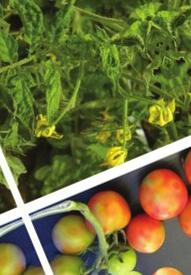Tomato leaf mosaic virus: (28, 58, 73, 119), (2, 69, 44, 133), (15, 10, 54, 49), (0, 25, 24, 69)
